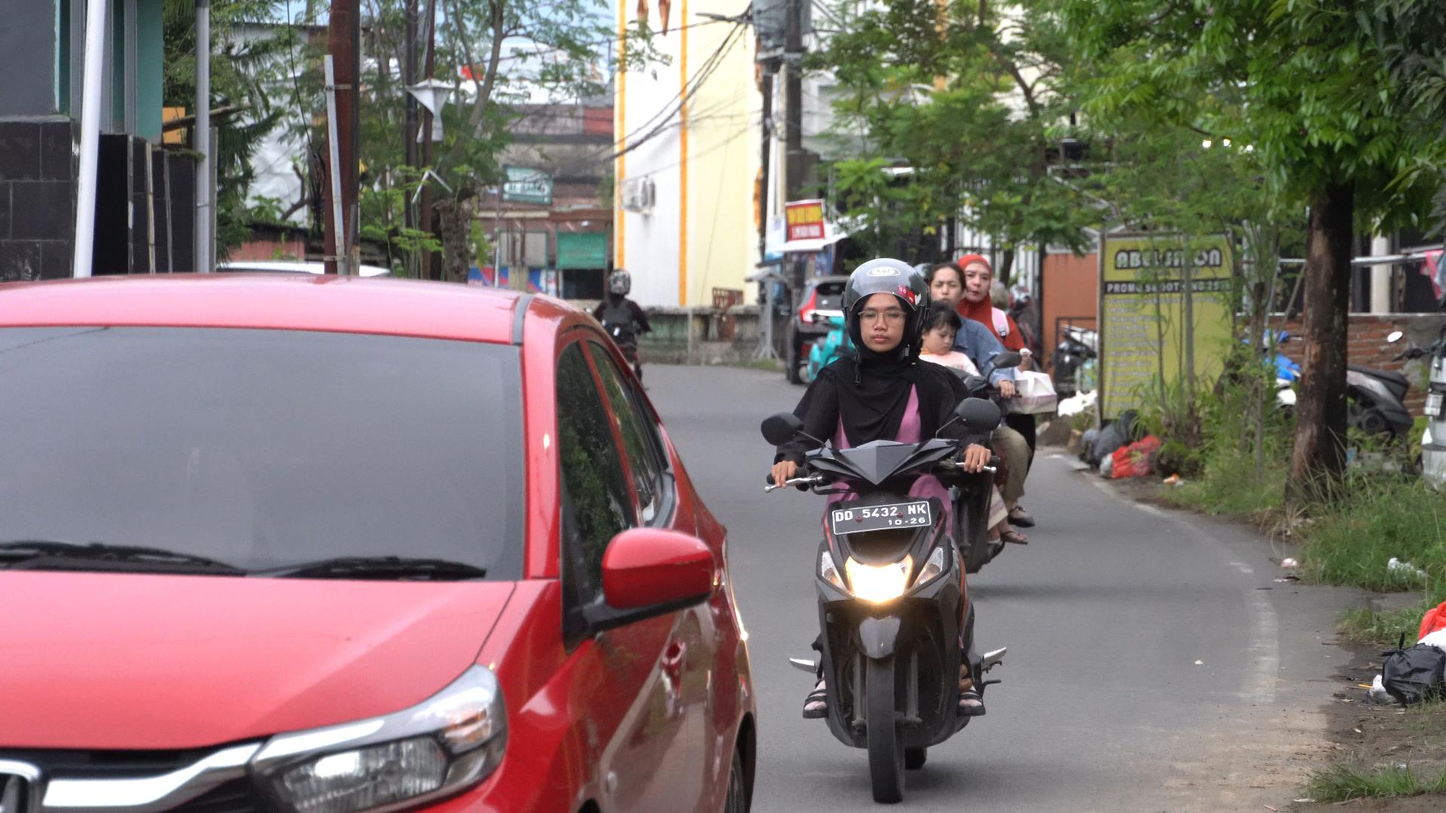number-plate: (827, 497, 932, 539)
